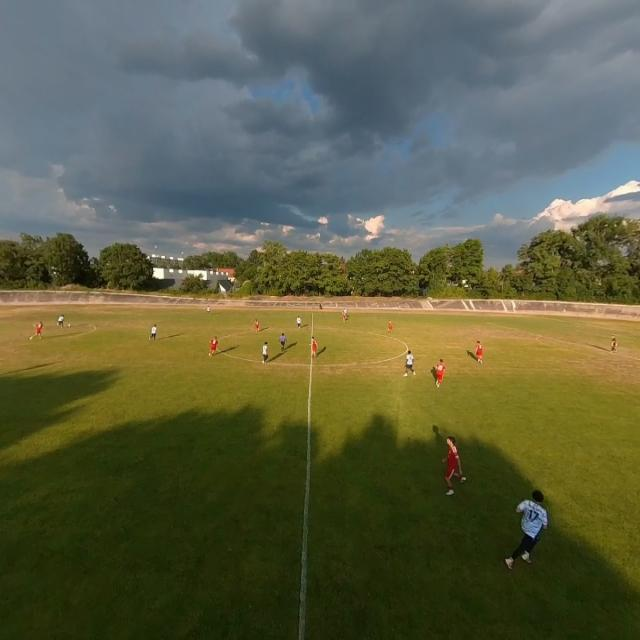ball: (68, 322, 70, 328)
